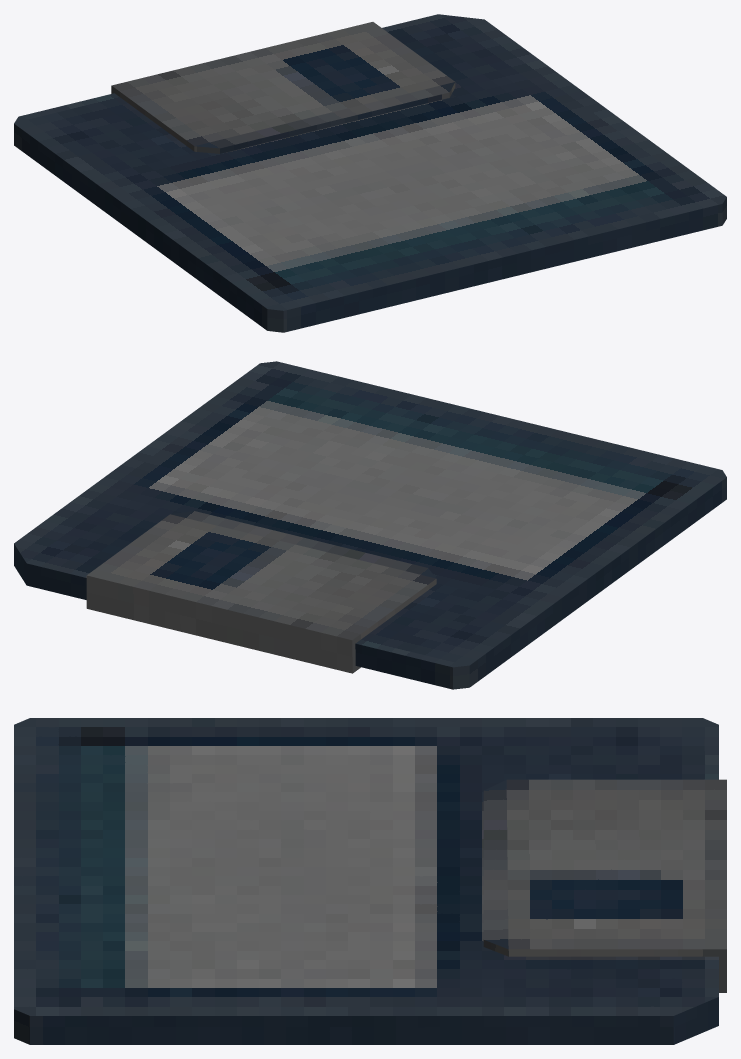
Rendered from floppy_disc_1.glb.
The picture shows the model from 3 angles, top to bottom: view 1: azimuth 30°, elevation 25°; view 2: azimuth 150°, elevation 25°; view 3: azimuth 270°, elevation 25°; orthographic projection. The views are drawn at different scales.
Parts seen in each view (by area): view 1: floppy_disc_1; view 2: floppy_disc_1; view 3: floppy_disc_1.
Part boxes in pixels (x1,y1,x2,y2): floppy_disc_1: (14,14,726,332); floppy_disc_1: (14,361,726,689); floppy_disc_1: (14,718,726,1044).
Bounding box in the file's own units: 0.1584 × 0.0108 × 0.1602.
1 material, 1 textured.
